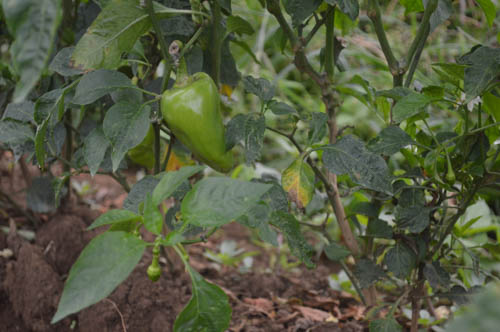ChiliPepper: (160, 75, 235, 173)
